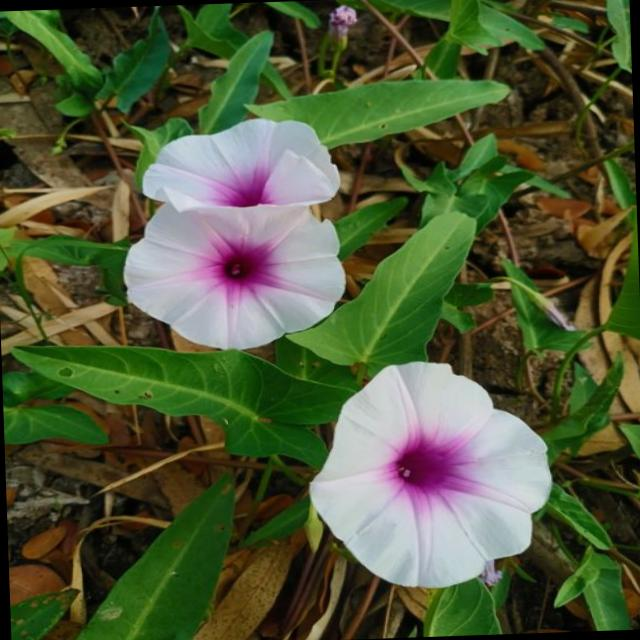ipomoea: (301, 353, 560, 594), (118, 195, 352, 356), (137, 113, 346, 218)
